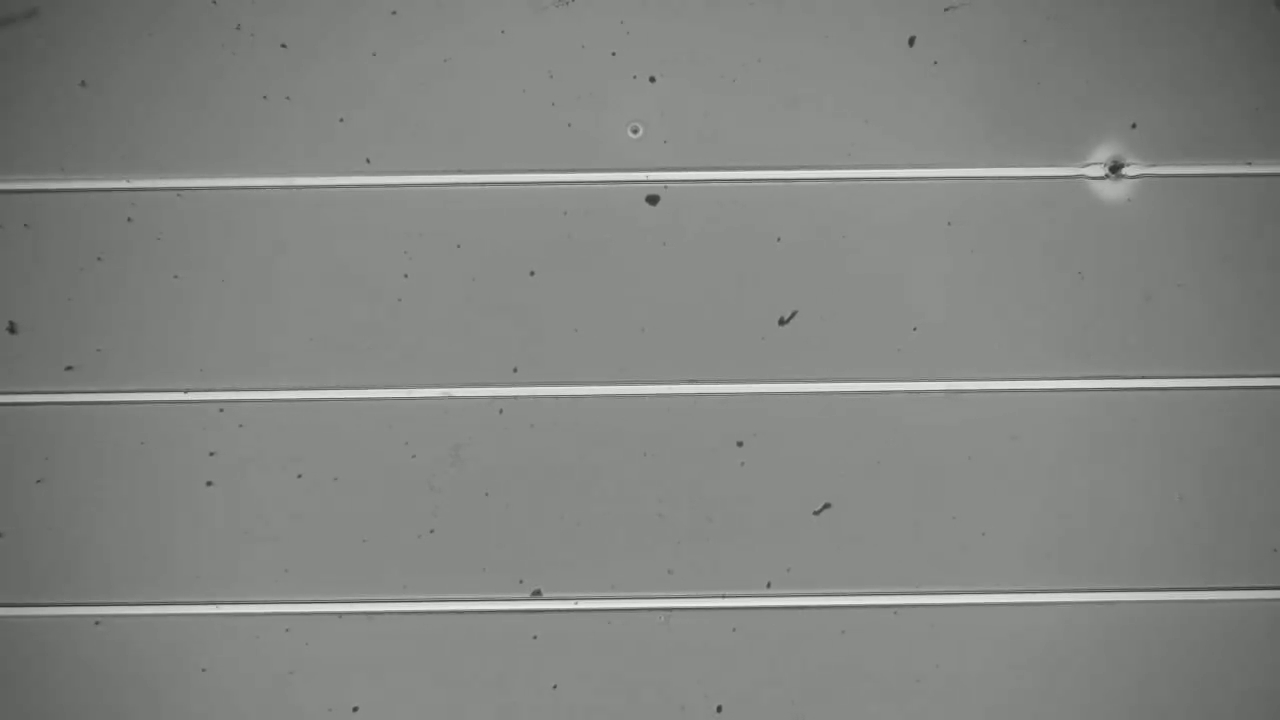stains_enbedded: (1095, 147, 1145, 199)
